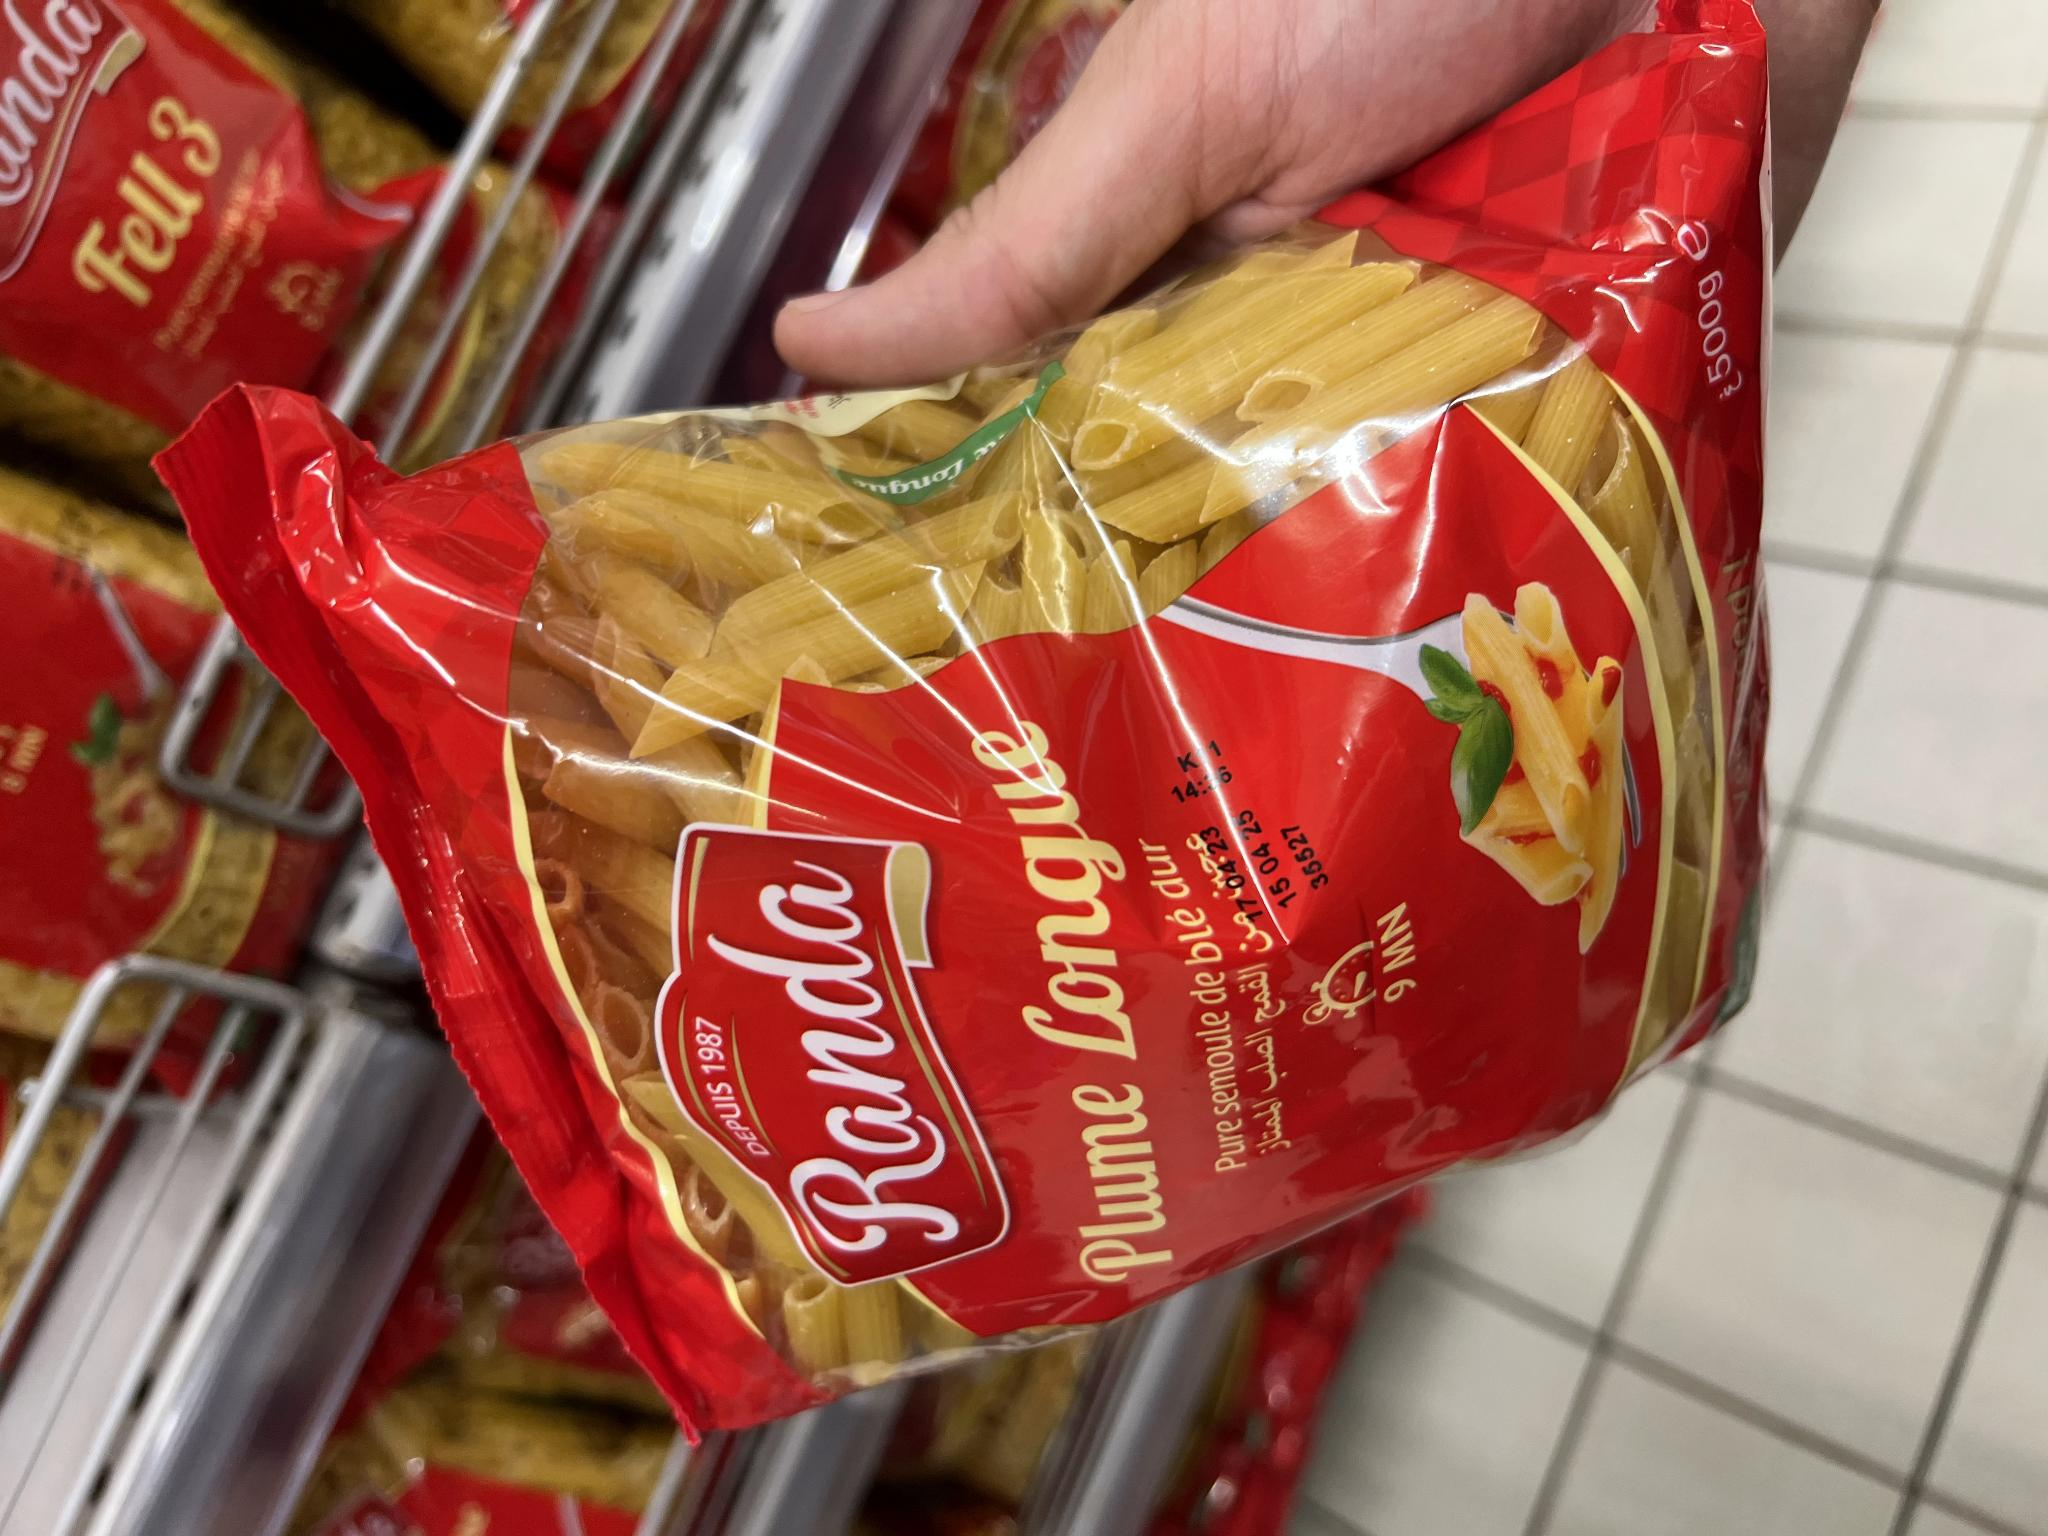plume: (245, 5, 1763, 1468)
